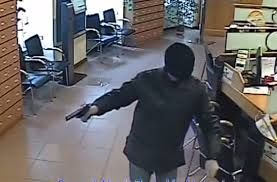gun: (57, 93, 105, 129)
